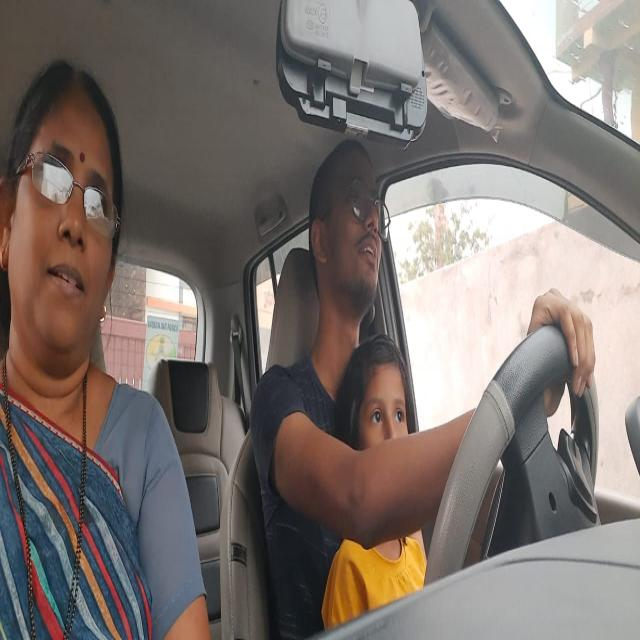child: (339, 335, 417, 488)
person: (3, 56, 124, 377), (308, 132, 391, 328)
